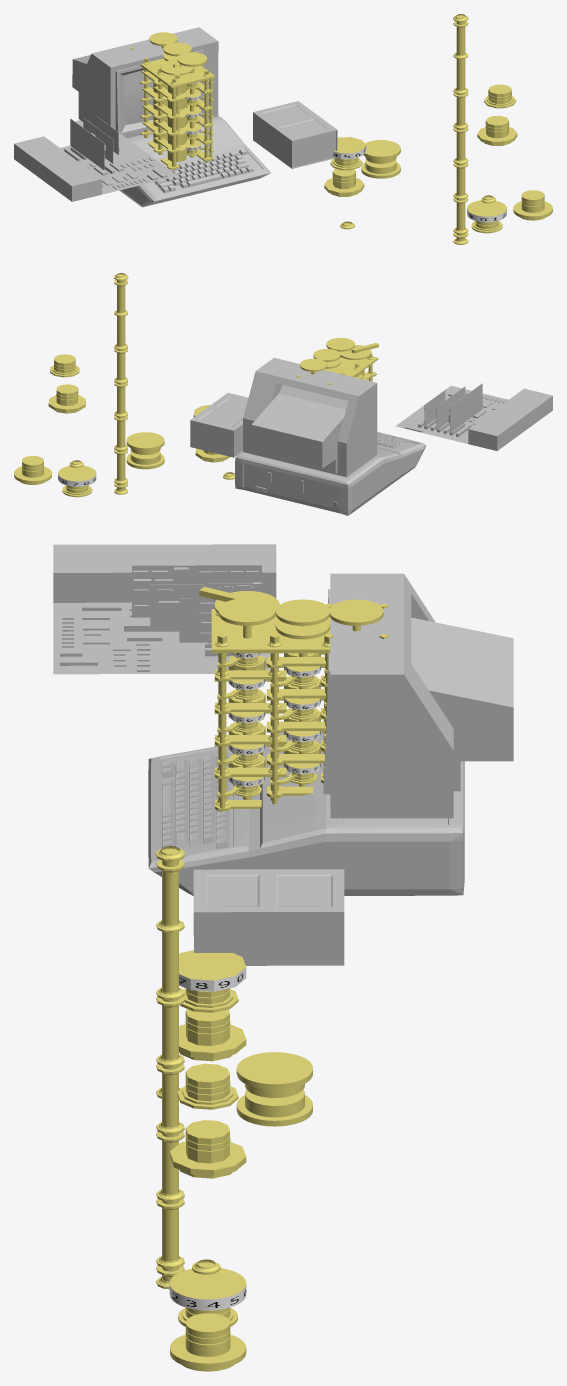
Rendered from DifferenceEngine.fbx.
3 renders of one model, top to bottom at view 1: azimuth 30°, elevation 25°; view 2: azimuth 150°, elevation 25°; view 3: azimuth 270°, elevation 25°, orthographic. The views are drawn at different scales.
Parts seen in each view (by area): view 1: lector, Diff_Eng, Columna.001, Cylinder.002, Numeros, Rodillo.001, Cylinder.006, Cylinder.012, Cylinder.001, Cylinder.008, Cylinder, Cylinder.009 (+1 smaller); view 2: lector, Diff_Eng, Columna.001, Cylinder.002, Cylinder.006, Cylinder.012, Cylinder.008, Cylinder.001, Cylinder.009, Cylinder; view 3: lector, Diff_Eng, Columna.001, Cylinder.002, Numeros, Rodillo.001, Cylinder.006, Cylinder.012, Cylinder.001, Cylinder.008, Cylinder, Cylinder.009.
Part boxes in pixels (box(x1,y1,x2,y2)): lector: box(14, 27, 337, 207); Diff_Eng: box(130, 32, 215, 170); Columna.001: box(456, 15, 465, 240); Cylinder.002: box(361, 140, 400, 178); Numeros: box(330, 137, 366, 170); Rodillo.001: box(324, 168, 364, 196); Cylinder.006: box(467, 200, 506, 222); Cylinder.012: box(484, 84, 516, 108); Cylinder.001: box(520, 190, 546, 220); Cylinder.008: box(484, 116, 511, 145); Cylinder: box(513, 201, 552, 219); Cylinder.009: box(477, 127, 517, 144); lector: box(190, 357, 552, 515); Diff_Eng: box(296, 337, 378, 385); Columna.001: box(117, 274, 125, 490); Cylinder.002: box(126, 432, 164, 469); Cylinder.006: box(58, 465, 96, 486); Cylinder.012: box(50, 354, 79, 377); Cylinder.008: box(55, 384, 81, 413); Cylinder.001: box(21, 456, 45, 484); Cylinder.009: box(48, 395, 85, 412); Cylinder: box(14, 466, 51, 483); lector: box(53, 544, 513, 965); Diff_Eng: box(199, 586, 388, 811); Columna.001: box(162, 848, 178, 1281); Cylinder.002: box(236, 1052, 312, 1126); Numeros: box(179, 950, 246, 1012); Rodillo.001: box(179, 1009, 246, 1061); Cylinder.006: box(169, 1268, 246, 1310); Cylinder.012: box(177, 1063, 238, 1109); Cylinder.001: box(182, 1313, 233, 1371); Cylinder.008: box(180, 1120, 232, 1178); Cylinder: box(170, 1334, 246, 1369); Cylinder.009: box(170, 1141, 246, 1175).
Bounding box in the file's own units: 2276 × 965 × 912.
